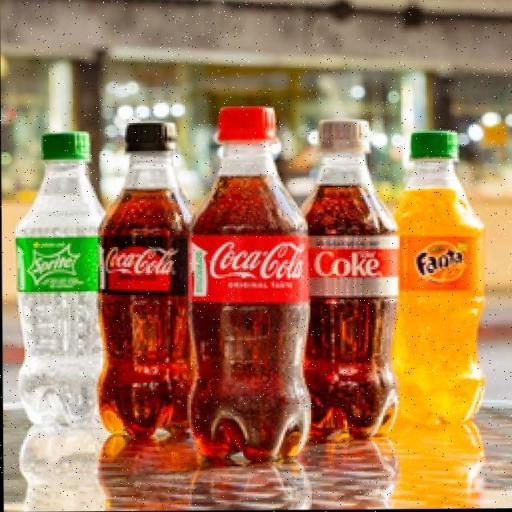plastic: (188, 108, 313, 465), (299, 117, 400, 441), (97, 123, 193, 439), (390, 133, 486, 430), (13, 134, 104, 427)
